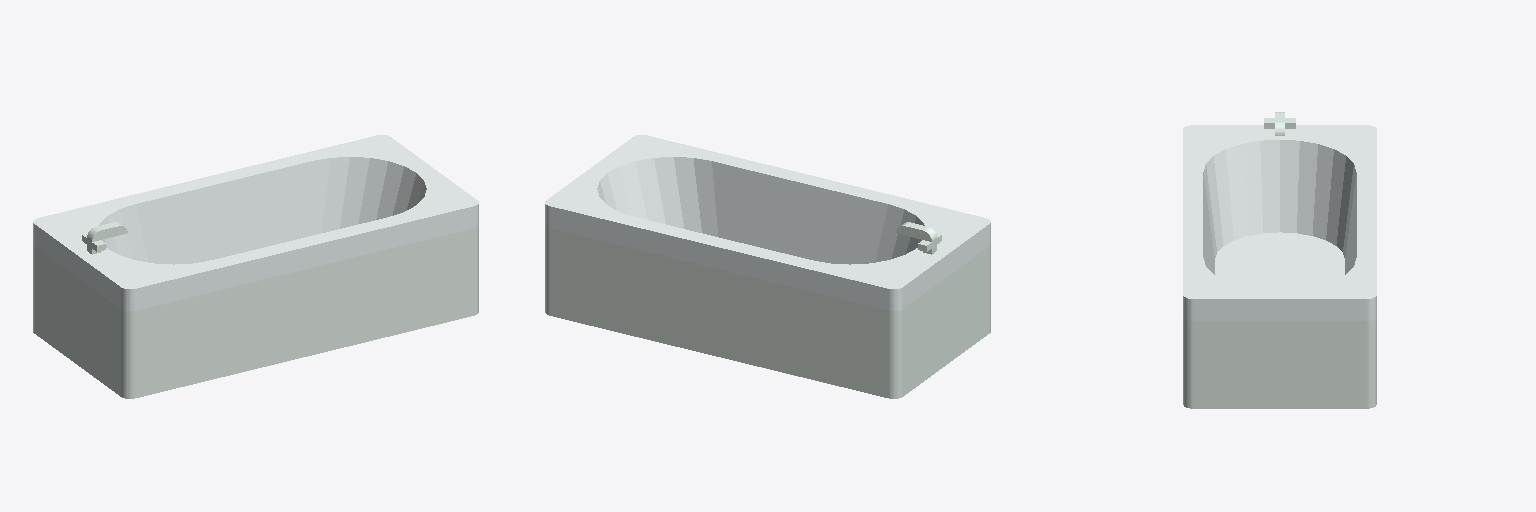
File: bathtub.obj
3 views of the same model, side by side, from view 1: azimuth 30°, elevation 25°; view 2: azimuth 150°, elevation 25°; view 3: azimuth 270°, elevation 25° (orthographic).
Parts seen in each view (by area): view 1: bathtub; view 2: bathtub; view 3: bathtub.
Boxes of the visible parts, x1,y1,x2,y2 form: bathtub: [33, 135, 478, 398]; bathtub: [545, 135, 990, 398]; bathtub: [1183, 112, 1376, 408].
Bounding box in the file's own units: 1.19 × 0.42 × 0.56.